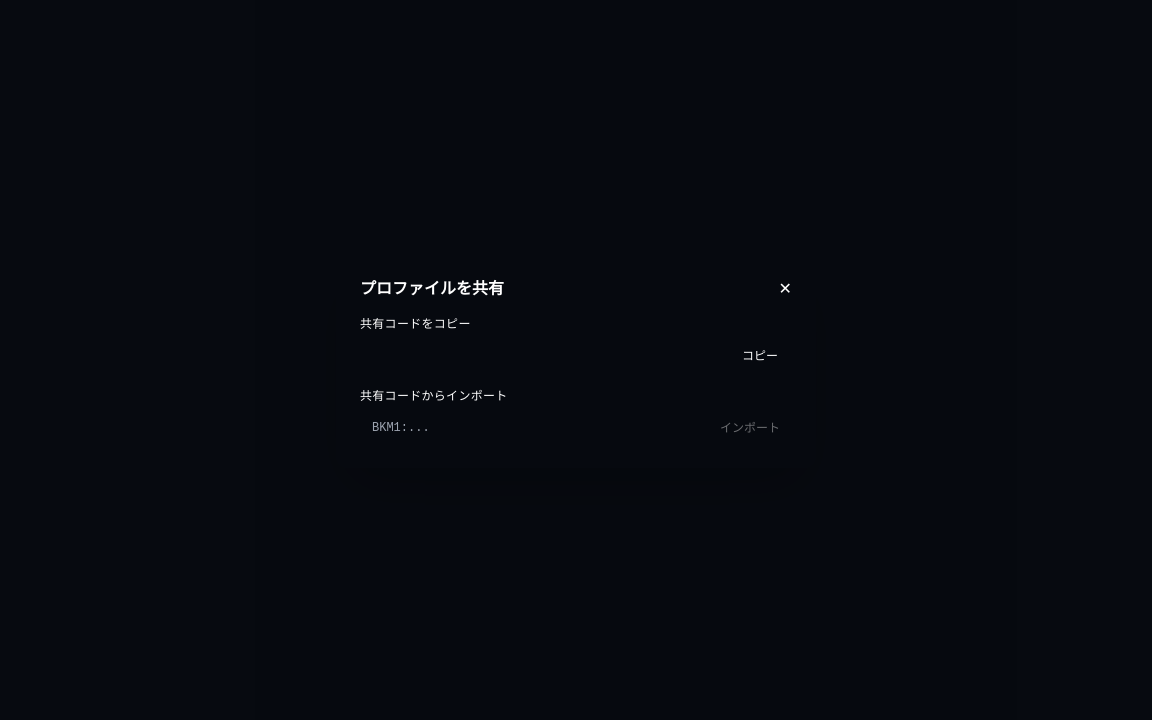
ShareDialog › 不正な共有コードを入力すると reason メッセージが表示される
Type "BKM1:!!!!" into the field with placeholder "BKM1:..." at [530, 428], box [360,412,700,444]
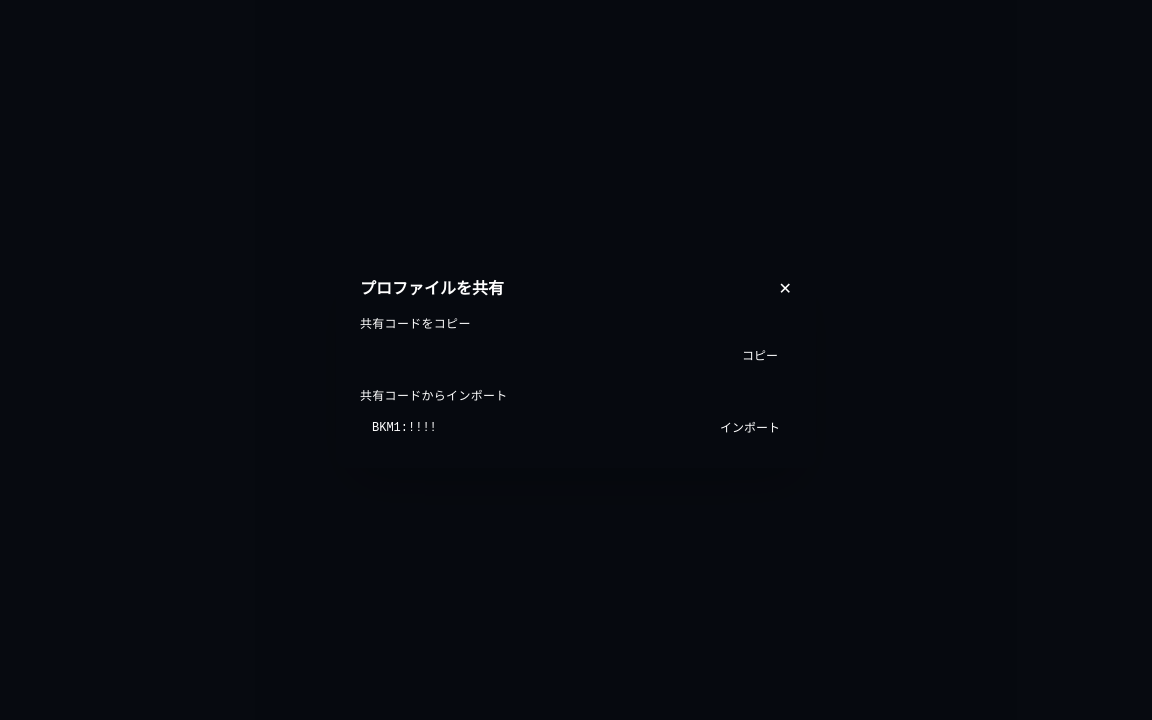
Click the button "インポート" at [750, 428], box [708,412,792,444]
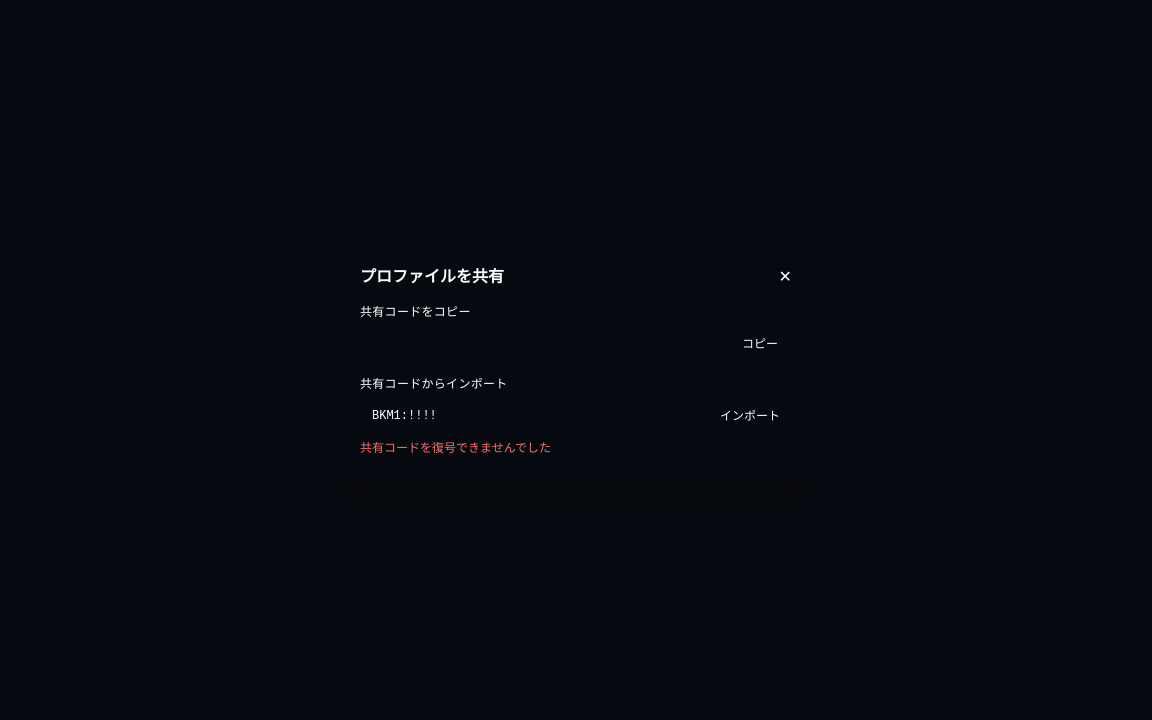
expect the text "共有コードを復号できませんでした" is shown: met, box [360,439,551,456]
